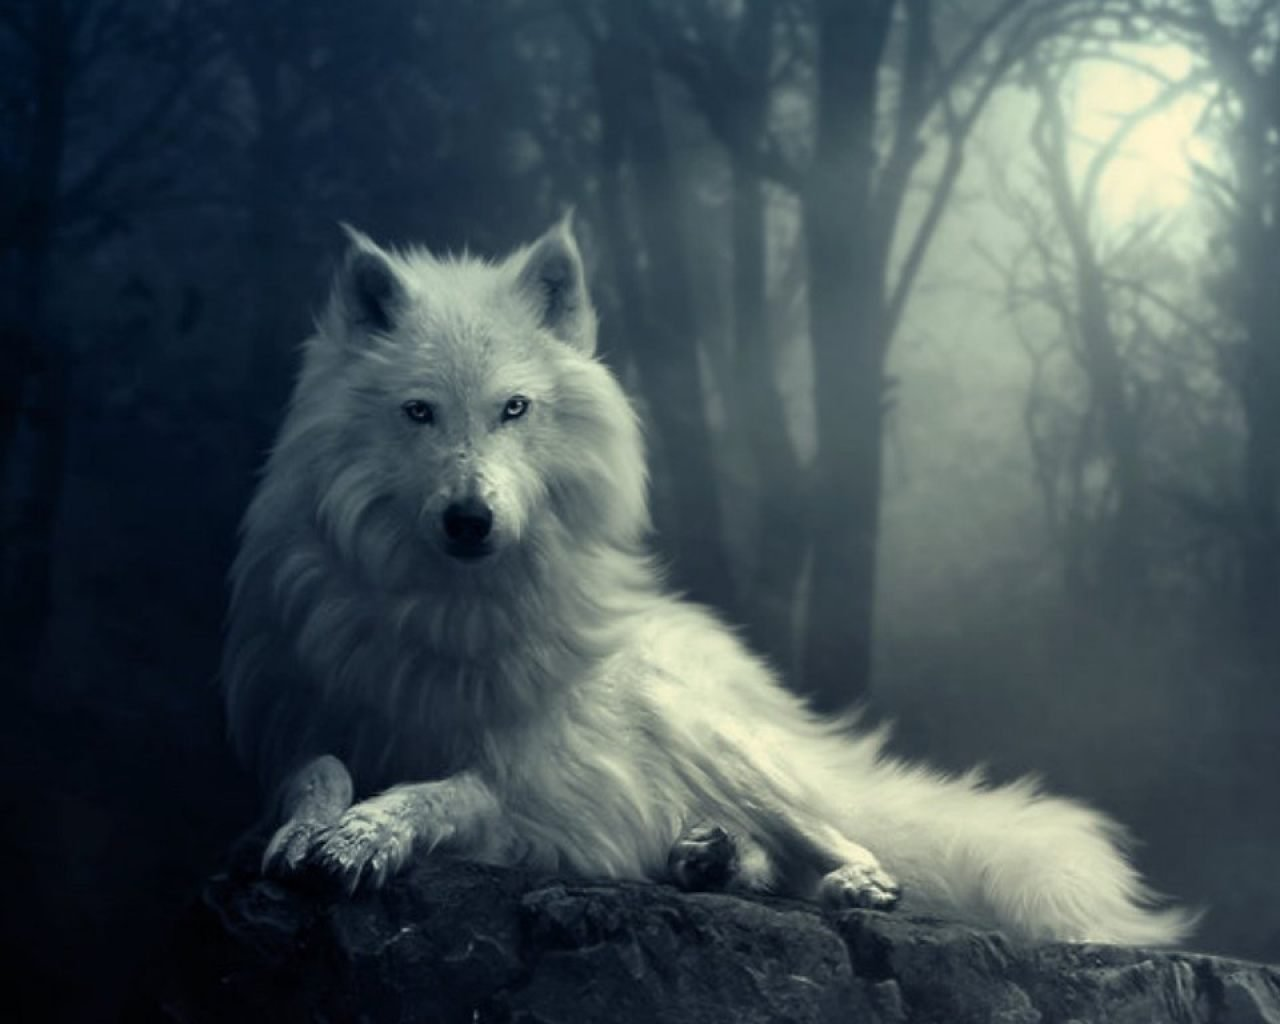Lobo: (200, 195, 1191, 951)
